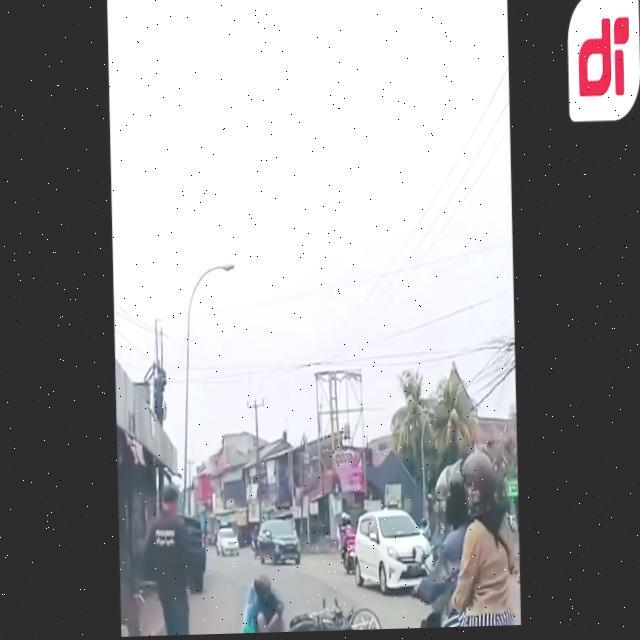normal: (203, 499, 466, 589)
single accident: (226, 574, 420, 640)
